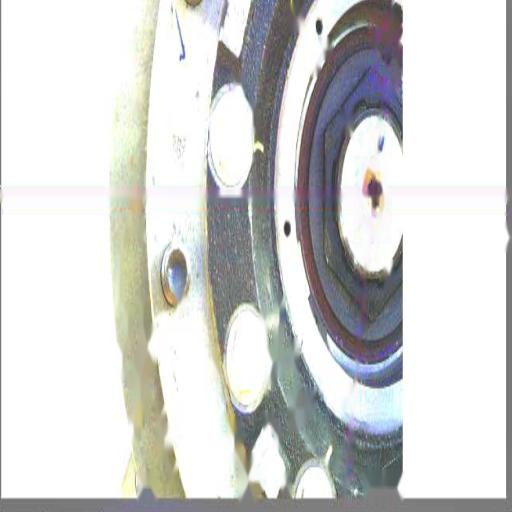center: (364, 172, 383, 213)
notch: (376, 45, 394, 73)
